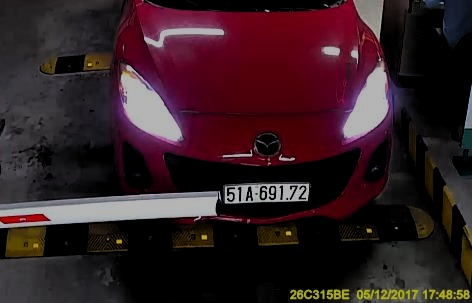plate: (222, 180, 314, 207)
